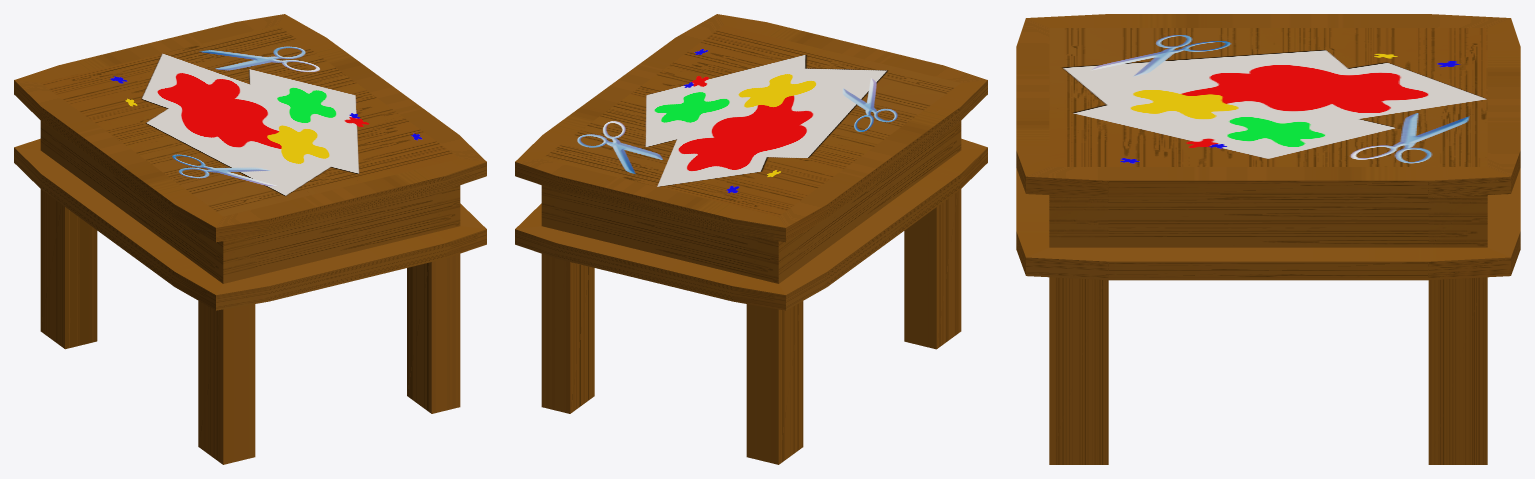
File: art_corner.FBX
3 views of the same model, side by side, from view 1: azimuth 30°, elevation 25°; view 2: azimuth 150°, elevation 25°; view 3: azimuth 270°, elevation 25° (orthographic). The views are drawn at different scales.
Parts seen in each view (by area): view 1: Box001; view 2: Box001; view 3: Box001.
Boxes of the visible parts, <box> form: Box001: <box>14,14,486,464</box>; Box001: <box>515,14,987,464</box>; Box001: <box>1016,14,1520,464</box>.
Bounding box in the file's own units: 36 × 30 × 46.
